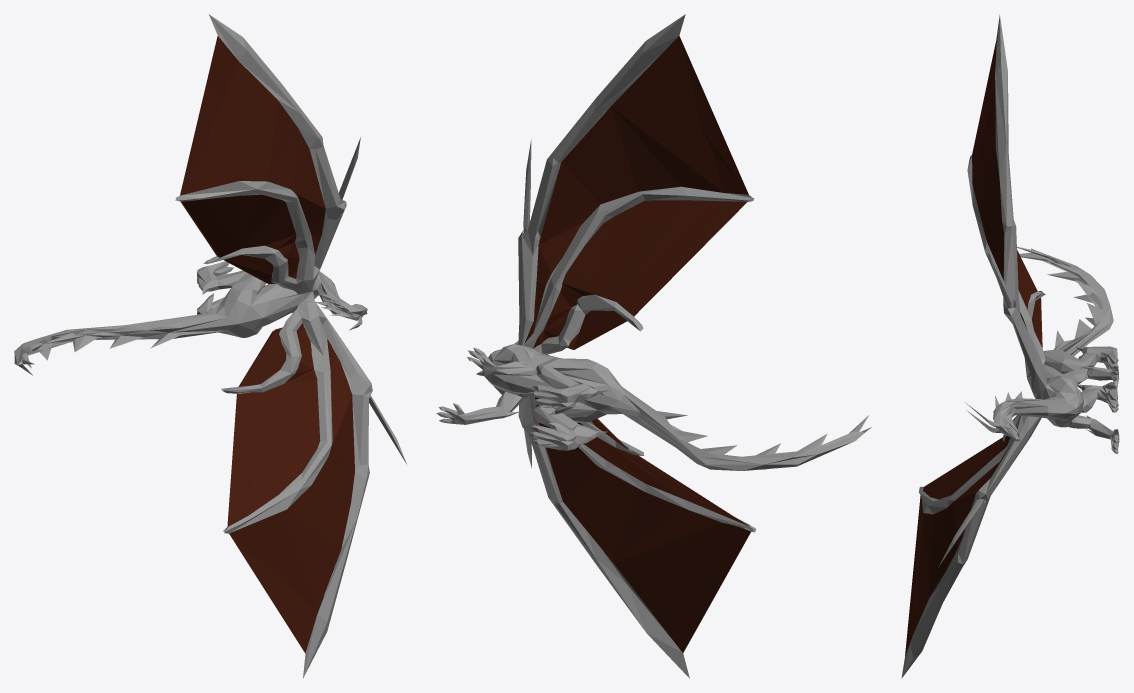
The model's file is Dragon_2.5_For_Animations_000330.obj.
3 renders of one model, left to right at view 1: azimuth 30°, elevation 25°; view 2: azimuth 150°, elevation 25°; view 3: azimuth 270°, elevation 25°, orthographic. The views are drawn at different scales.
Visible parts, largest first — view 1: Cube_Cube.004; view 2: Cube_Cube.004; view 3: Cube_Cube.004.
Boxes of the visible parts, x1,y1,x2,y2 form: Cube_Cube.004: (14,14,406,678); Cube_Cube.004: (436,14,871,678); Cube_Cube.004: (901,14,1119,678).
Bounding box in the file's own units: 83.69 × 149 × 45.81.
